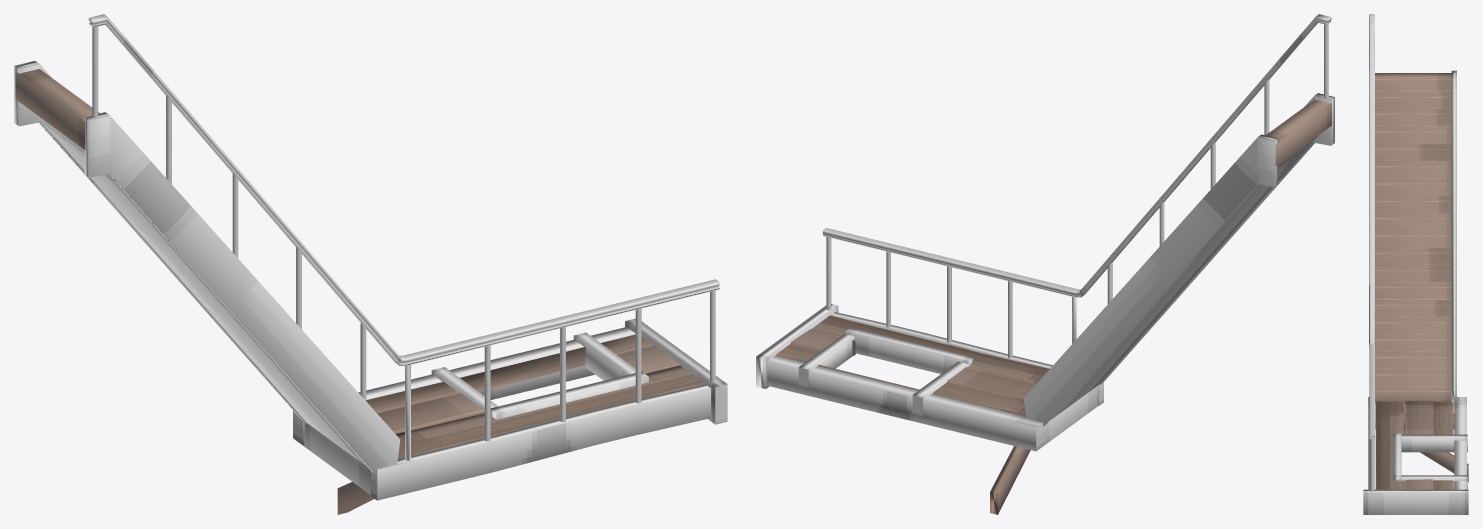
The model's file is SM_WalkwayChurchLadder.fbx.
The picture shows the model from 3 angles, left to right: view 1: azimuth 30°, elevation 25°; view 2: azimuth 150°, elevation 25°; view 3: azimuth 270°, elevation 25°; orthographic projection. The views are drawn at different scales.
Parts seen in each view (by area): view 1: SM_WalkwayChurchLadder; view 2: SM_WalkwayChurchLadder; view 3: SM_WalkwayChurchLadder.
Boxes of the visible parts, left/top/right/bottom form: SM_WalkwayChurchLadder: left=14, top=14, right=727, bottom=514; SM_WalkwayChurchLadder: left=756, top=14, right=1334, bottom=514; SM_WalkwayChurchLadder: left=1363, top=14, right=1468, bottom=514.
Size of the model in its own units: 756 by 187 by 726.
